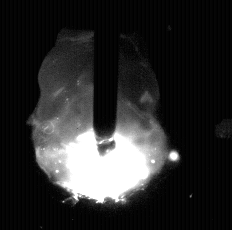arame: (94, 0, 118, 156)
poca: (34, 0, 168, 230)
